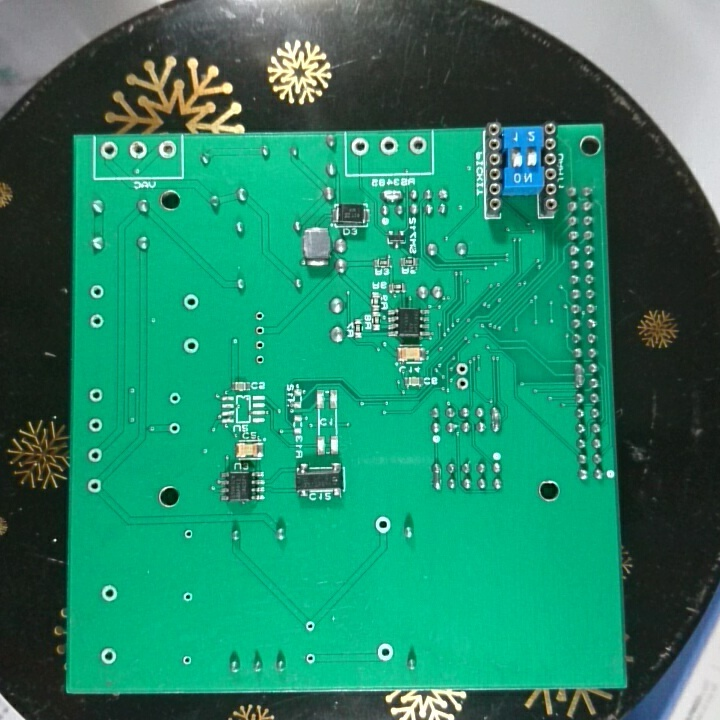F: (372, 640, 399, 663), (348, 134, 374, 157), (377, 135, 401, 157), (99, 140, 121, 163), (97, 645, 119, 667), (179, 335, 202, 356), (406, 135, 428, 156), (156, 139, 177, 161), (126, 139, 148, 160), (180, 291, 202, 312), (98, 582, 119, 603), (373, 514, 391, 538), (87, 311, 105, 332), (85, 476, 104, 495), (87, 283, 106, 301), (85, 446, 105, 463), (180, 523, 197, 543), (86, 417, 104, 435), (87, 387, 106, 404), (454, 375, 472, 392), (454, 359, 471, 377), (302, 616, 318, 635), (179, 589, 196, 606), (166, 420, 182, 438), (166, 389, 182, 407), (252, 308, 270, 324), (251, 323, 268, 338), (303, 649, 317, 666), (251, 352, 268, 366), (252, 338, 268, 352), (179, 653, 192, 668)
P: (429, 458, 445, 492), (379, 185, 405, 205), (488, 405, 503, 434), (571, 361, 586, 390)
